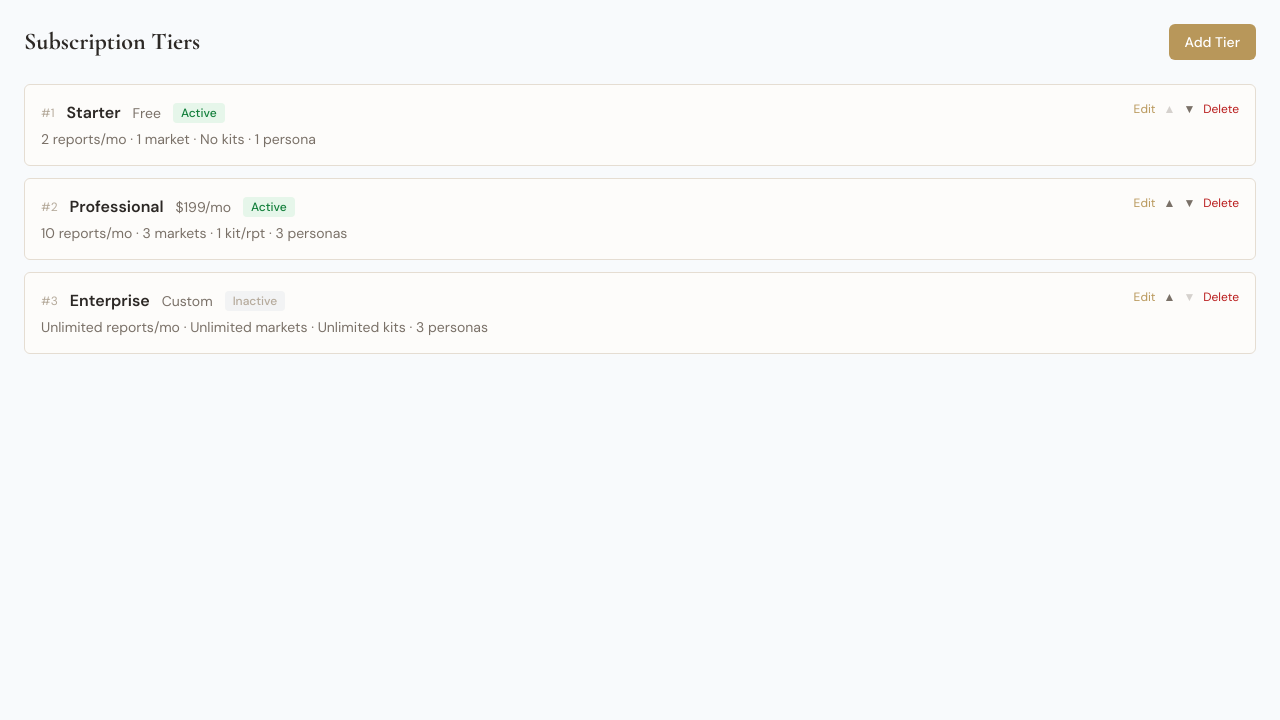
Test: CMP-TIER: Tier Management Dashboard › Scenario: Admin creates a new tier › CMP-TIER-11: form has required fields
Expected: the text "Starter" is shown, left=66, top=101, right=121, bottom=125
Click the button "Add Tier" at (1212, 42), box left=1168, top=24, right=1256, bottom=60
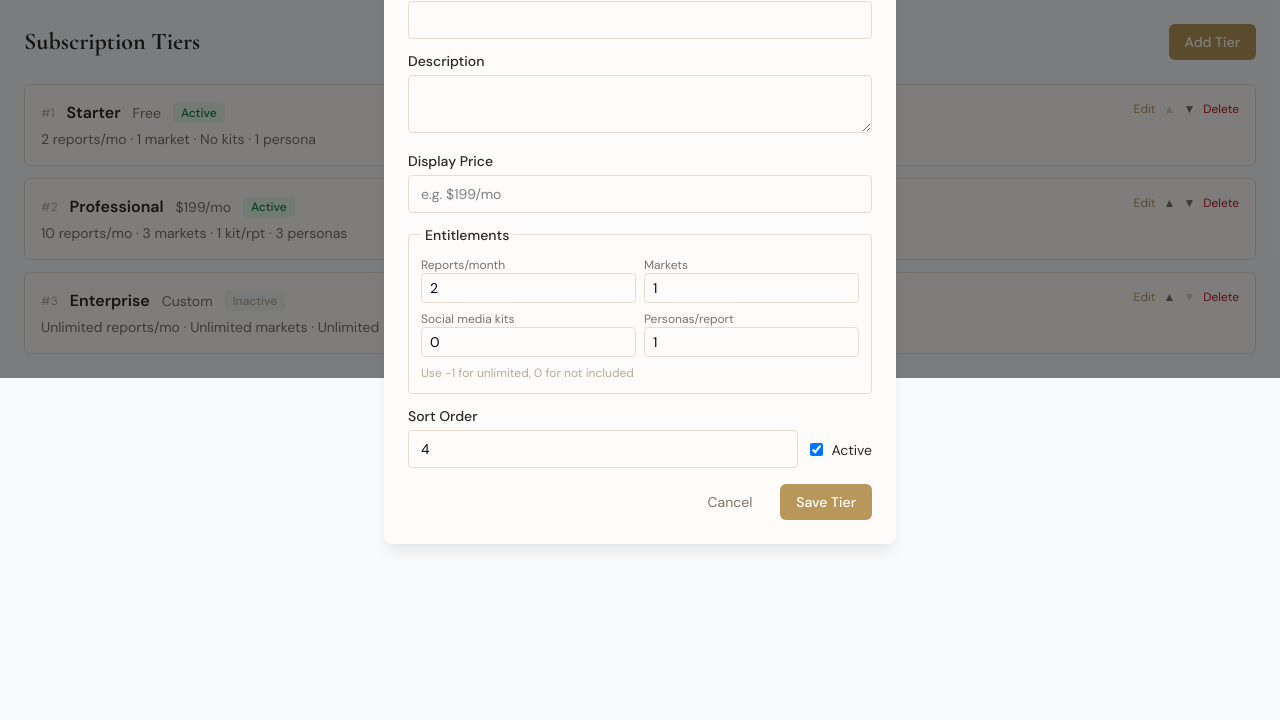
Result: the field labelled "Slug" is shown at left=408, top=0, right=872, bottom=38
Result: the field labelled "Display Price" is shown at left=408, top=174, right=872, bottom=212
